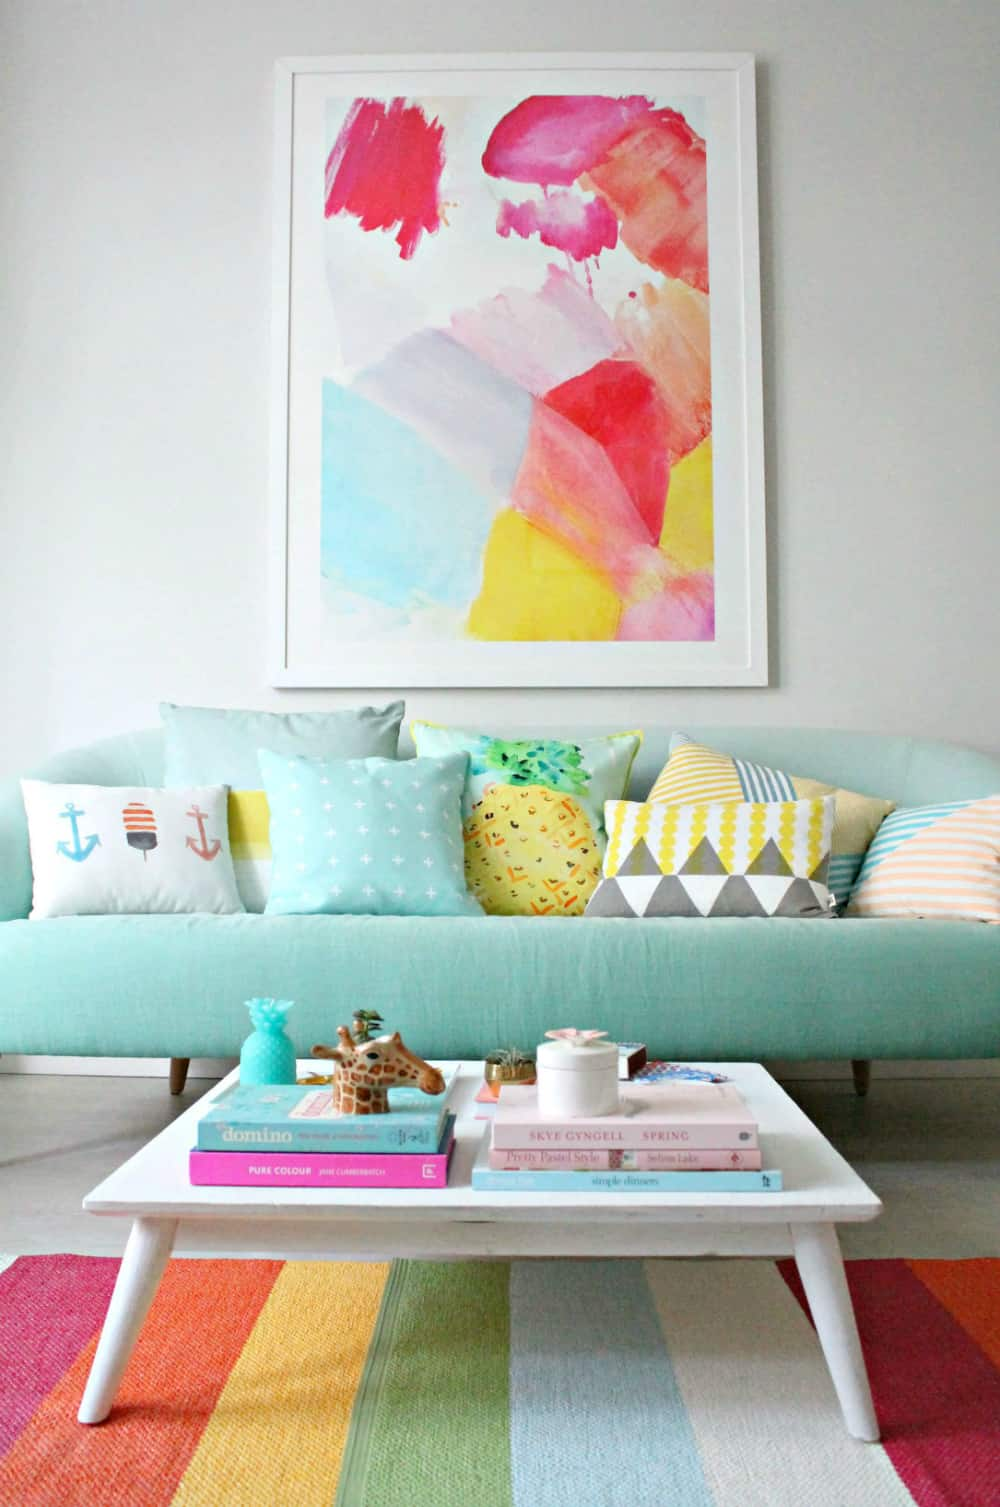biru: (4, 908, 999, 1056), (263, 753, 479, 922)
hijau: (242, 994, 299, 1086)
pink: (187, 1144, 455, 1187)
putih: (532, 1041, 624, 1117)
